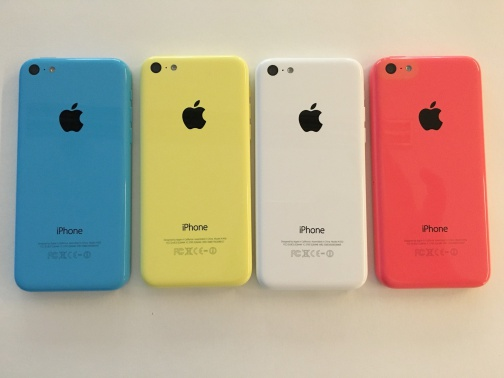apple: (281, 93, 342, 143), (48, 102, 94, 142), (181, 93, 214, 139), (412, 98, 446, 137)
